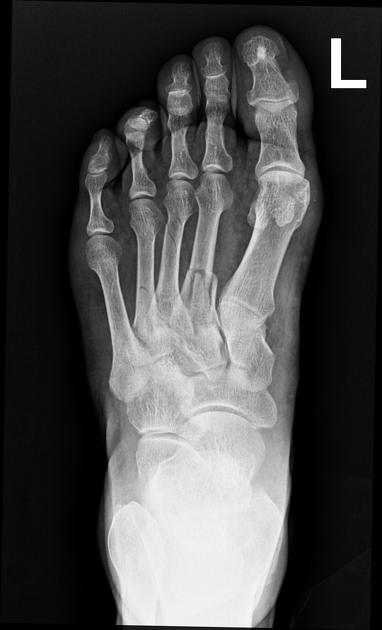fractured: (180, 259, 220, 309), (165, 219, 182, 249), (136, 284, 152, 296)
